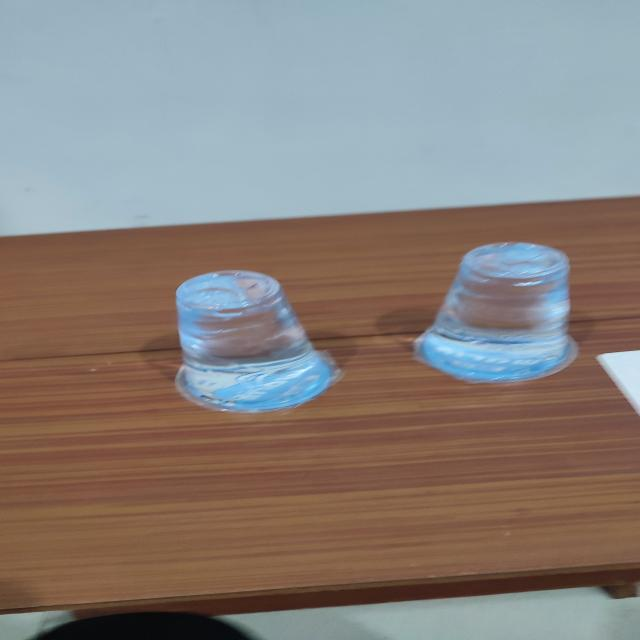air gelas: (159, 269, 357, 413), (411, 230, 592, 384)
